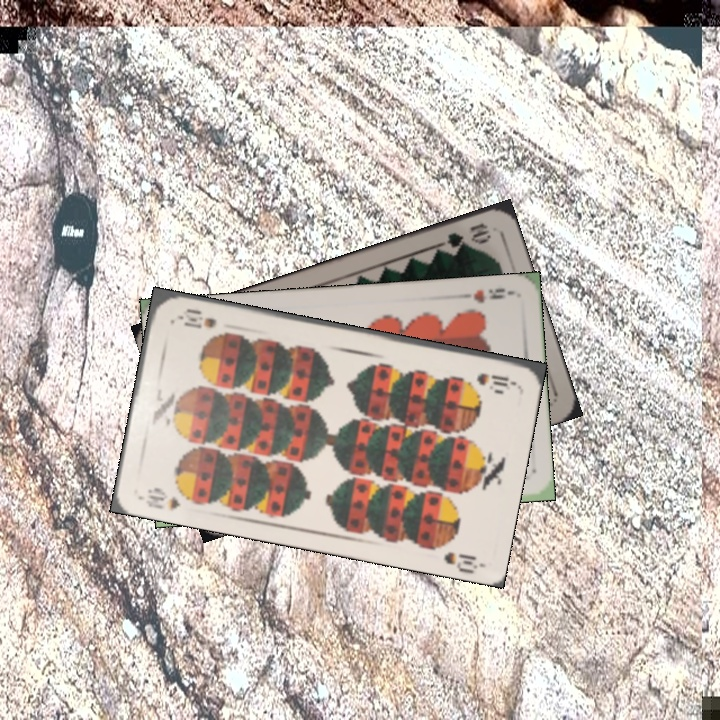G10: (435, 218, 494, 252)
H9: (455, 284, 515, 306)
S10: (141, 484, 183, 513), (473, 369, 516, 389)
